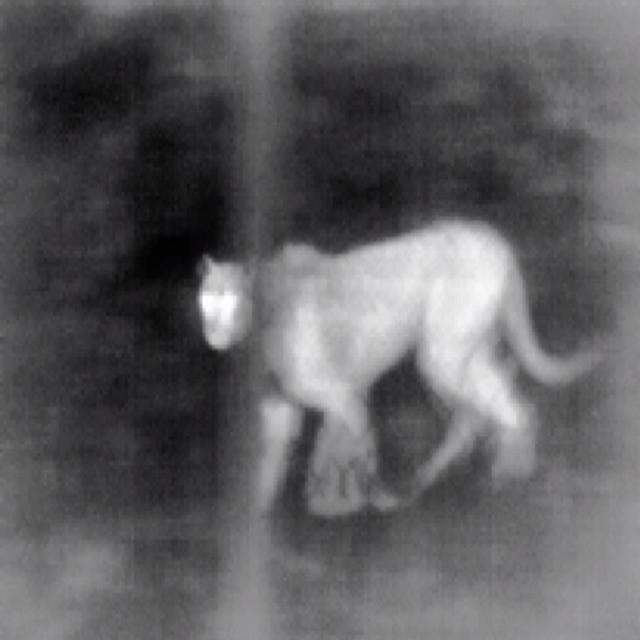cheetah: (200, 220, 597, 513)
